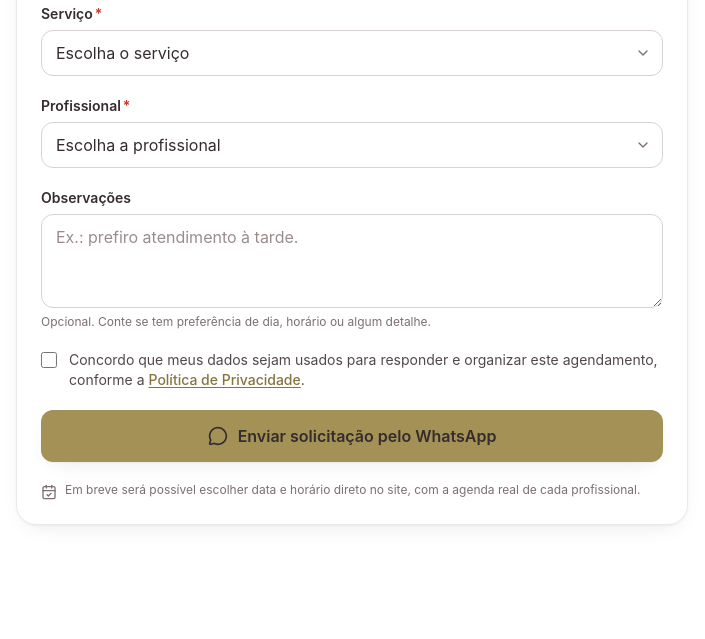
Test: BookingSection › exige o nome
(page scrolled)
Click the button "Enviar solicitação pelo WhatsApp".
click(352, 436)  # box [41, 410, 663, 462]
(page scrolled)
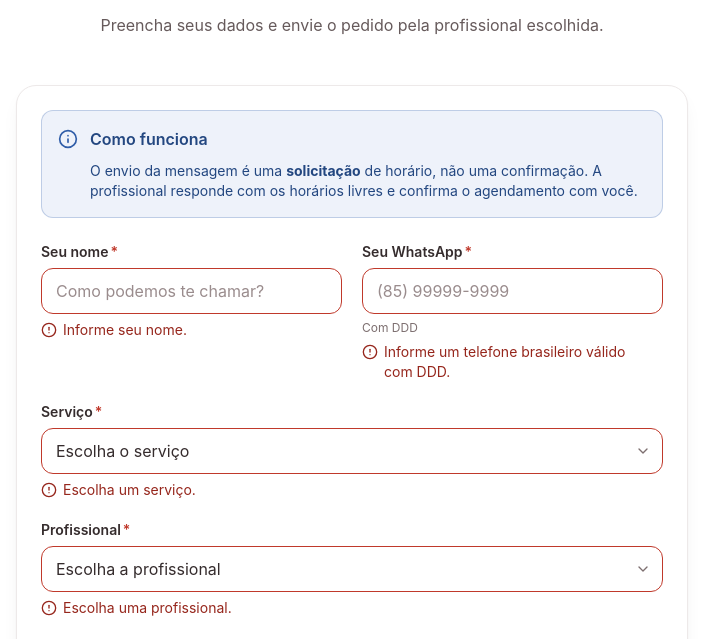
Expected: the text "Informe seu nome." is shown, [63, 320, 187, 340]
